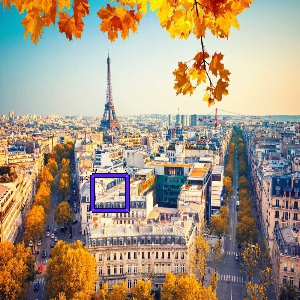square: (89, 172, 131, 215)
